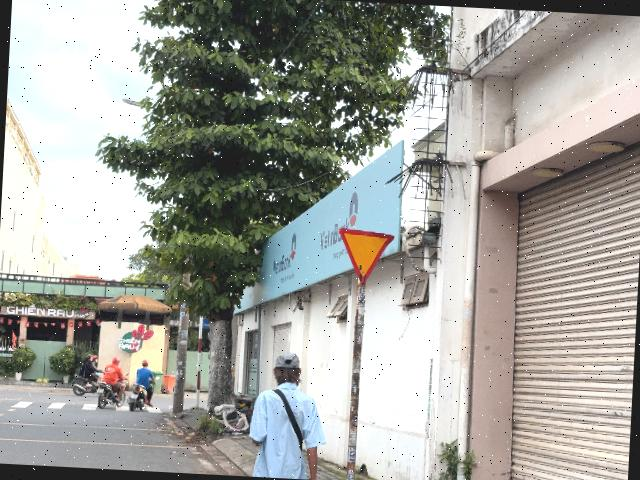giao-nhau-voi-duong-uu-tien: (335, 227, 396, 286)
